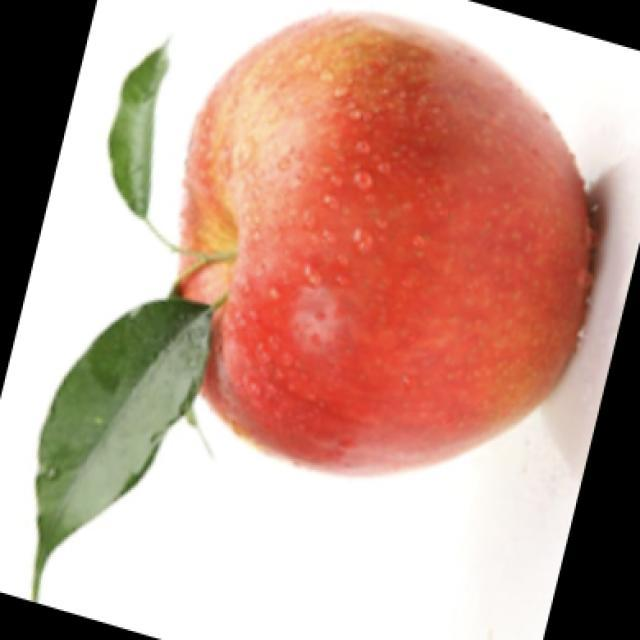Fresh Apple: (185, 30, 587, 478)
